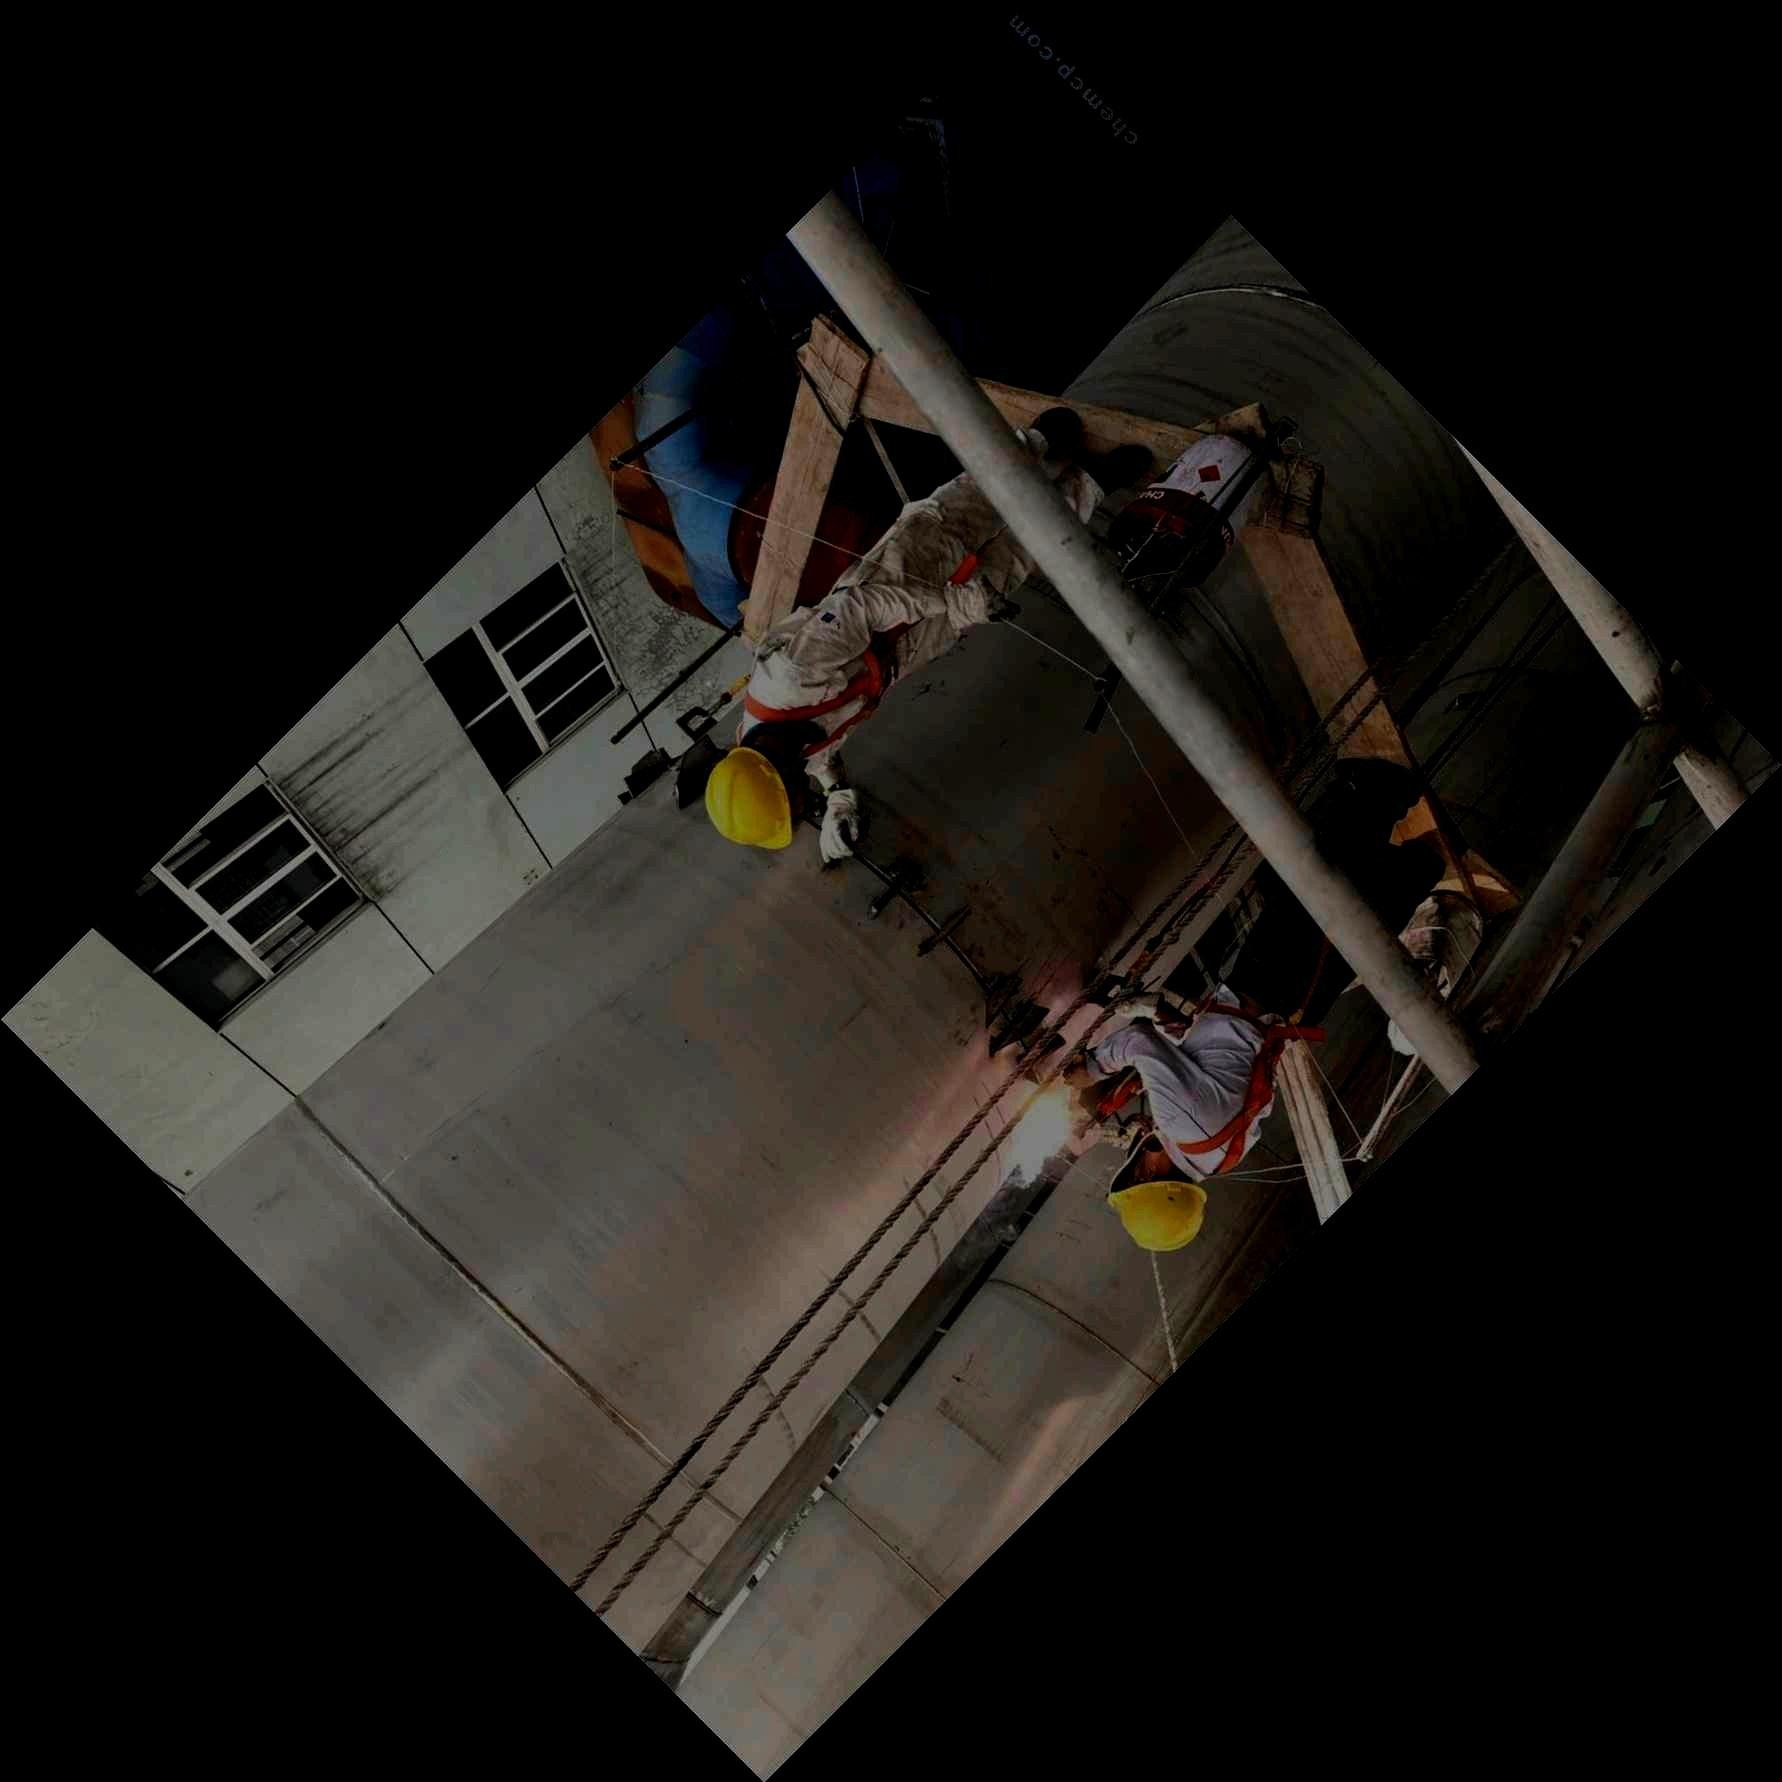helmet: (703, 747, 813, 850), (1106, 1141, 1208, 1252)
